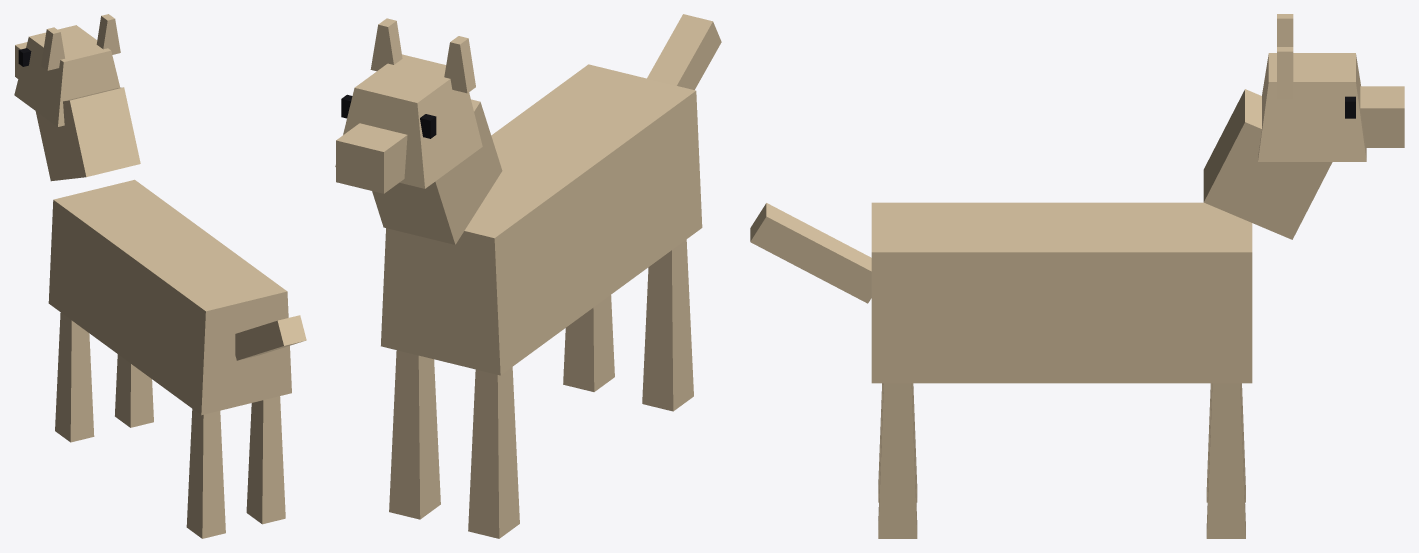
File: animal_dog.glb
3 renders of one model, left to right at view 1: azimuth 30°, elevation 25°; view 2: azimuth 150°, elevation 25°; view 3: azimuth 270°, elevation 25°, orthographic. The views are drawn at different scales.
Visible parts, largest first — view 1: animal_dog__mesh; view 2: animal_dog__mesh; view 3: animal_dog__mesh.
Part boxes in pixels (bbox=[...]): animal_dog__mesh: bbox=[14, 14, 306, 538]; animal_dog__mesh: bbox=[335, 14, 721, 538]; animal_dog__mesh: bbox=[750, 14, 1404, 538].
Size of the model in its own units: 0.24 by 0.975 by 1.2.
